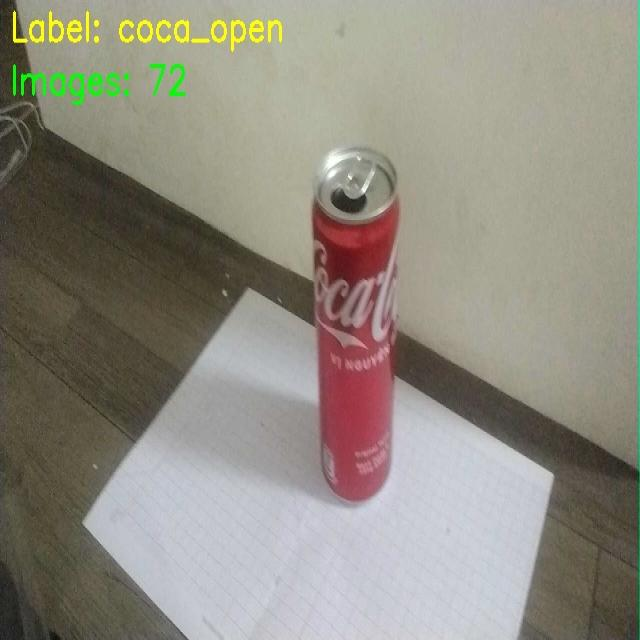Coca_open: (303, 142, 406, 511)
